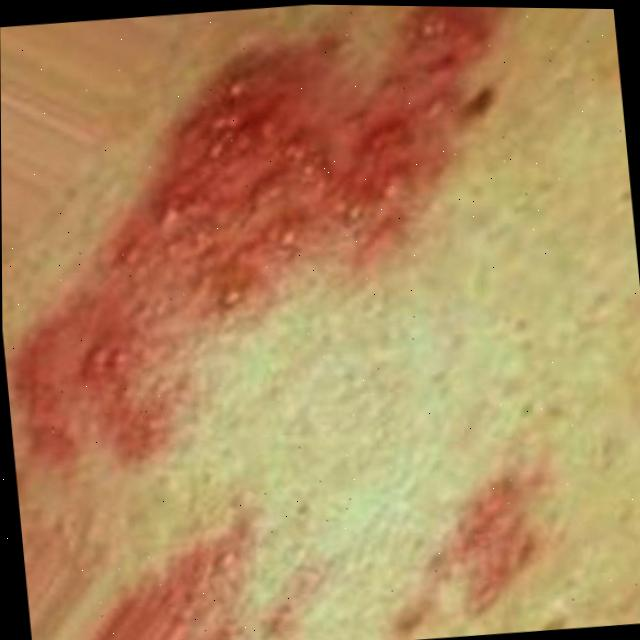Shingles: (0, 2, 555, 473), (152, 471, 556, 640)
